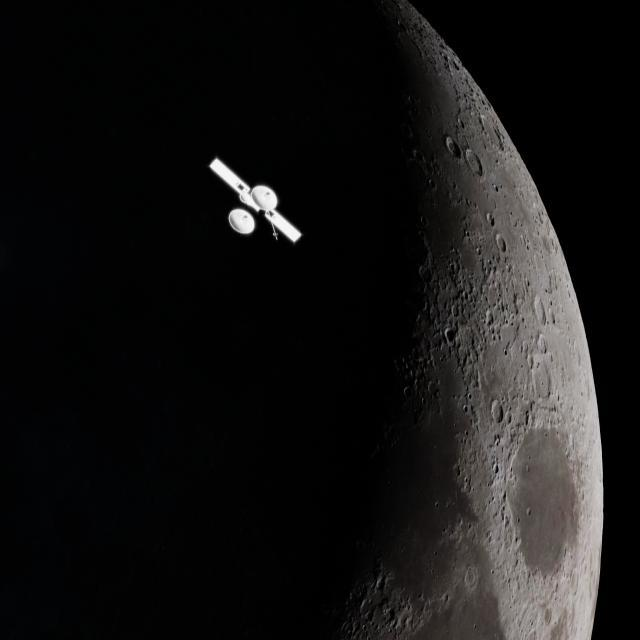satellite: (201, 150, 319, 254)
